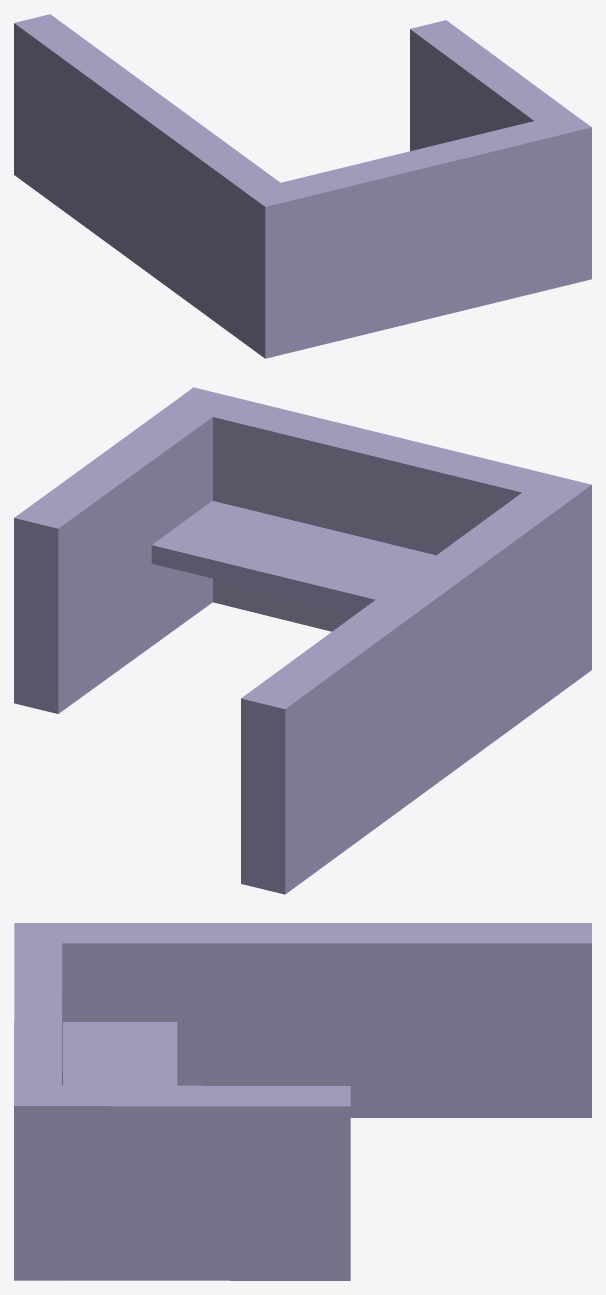
The model's file is Cubicle.fbx.
3 views of the same model, one above another, from view 1: azimuth 30°, elevation 25°; view 2: azimuth 150°, elevation 25°; view 3: azimuth 270°, elevation 25° (orthographic). The views are drawn at different scales.
Parts seen in each view (by area): view 1: Cube.001; view 2: Cube.001; view 3: Cube.001.
Part boxes in pixels (bbox=[...]): Cube.001: bbox=[14, 14, 591, 358]; Cube.001: bbox=[14, 387, 591, 894]; Cube.001: bbox=[14, 923, 591, 1280].
Bounding box in the file's own units: 4.51 × 2 × 6.
